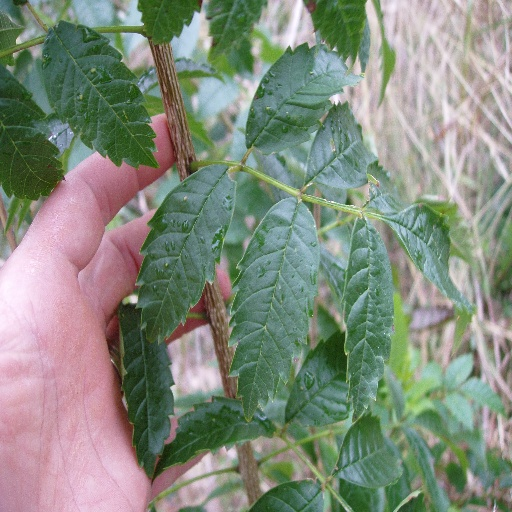hand: (0, 109, 232, 511)
